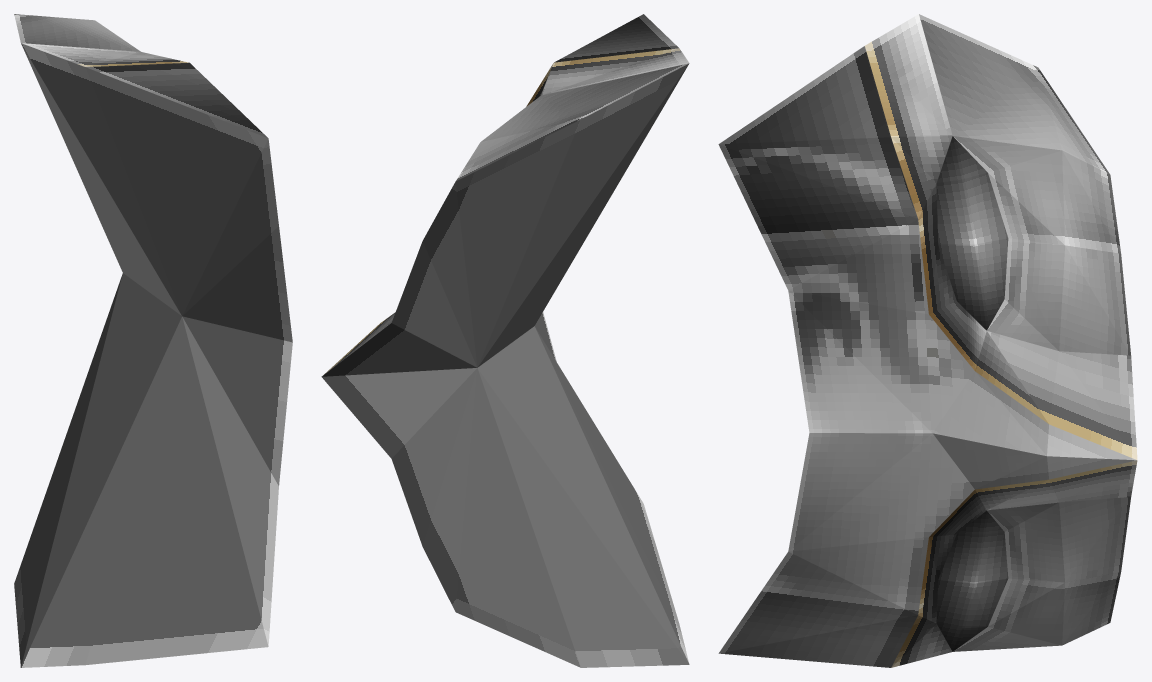
The model's file is options85.obj.
The picture shows the model from 3 angles, left to right: view 1: azimuth 30°, elevation 25°; view 2: azimuth 150°, elevation 25°; view 3: azimuth 270°, elevation 25°; orthographic projection. The views are drawn at different scales.
Parts seen in each view (by area): view 1: options85; view 2: options85; view 3: options85.
Part boxes in pixels (bbox=[...]): options85: bbox=[14, 14, 292, 667]; options85: bbox=[321, 14, 689, 667]; options85: bbox=[718, 14, 1137, 667].
Size of the model in its own units: 0.1532 by 0.3348 by 0.2032.
1 material, 1 textured.
